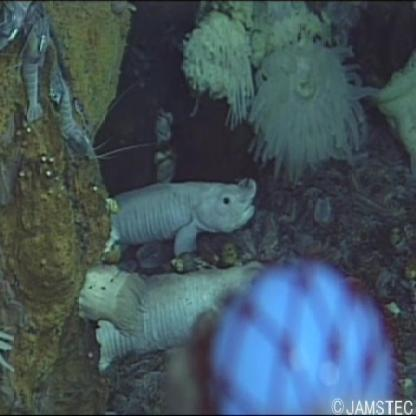Bio: (69, 174, 276, 376), (1, 1, 137, 170)
